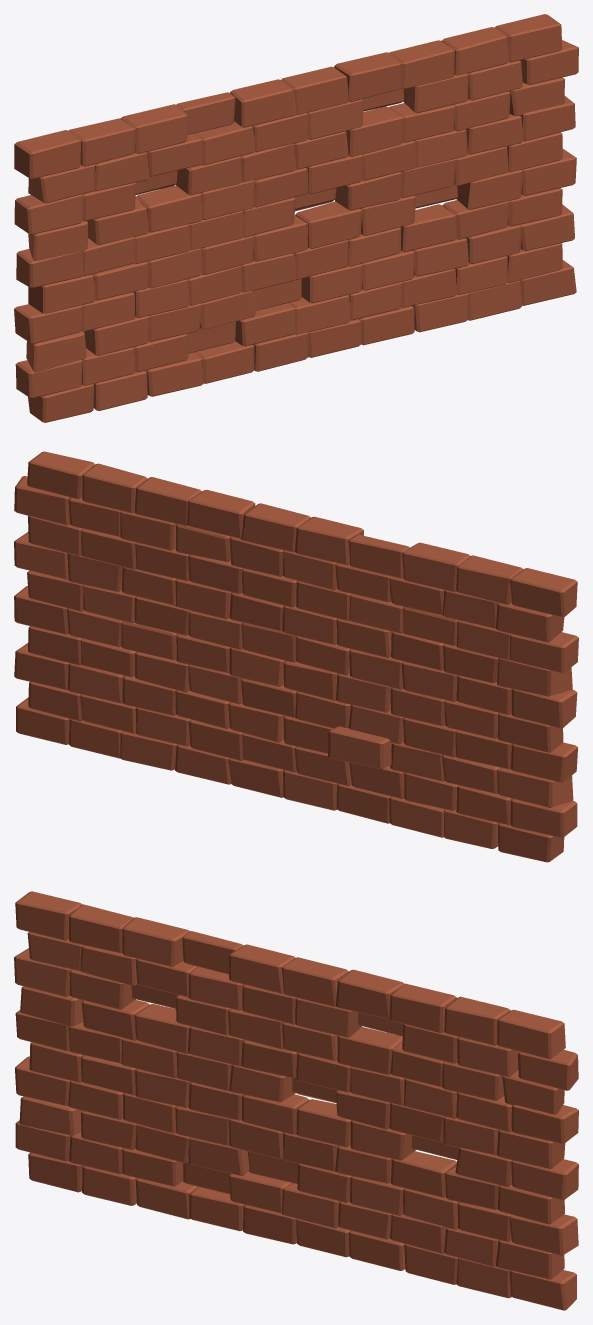
The model's file is wall1.fbx.
3 views of the same model, one above another, from view 1: azimuth 30°, elevation 25°; view 2: azimuth 150°, elevation 25°; view 3: azimuth 330°, elevation 25° (orthographic).
Visible parts, largest first — view 1: Cube; view 2: Cube; view 3: Cube.
Boxes of the visible parts, x1,y1,x2,y2 form: Cube: (14,14,578,422); Cube: (14,451,578,862); Cube: (14,891,578,1310).
Size of the model in its own units: 4218 by 2015 by 331.
